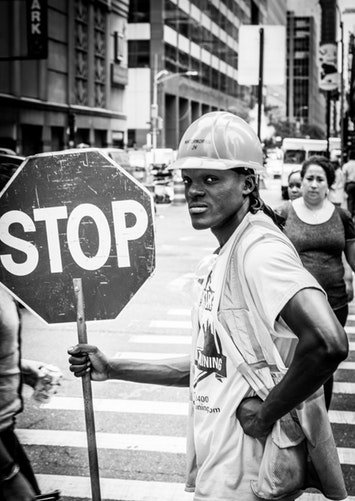helmet: (172, 107, 272, 174)
